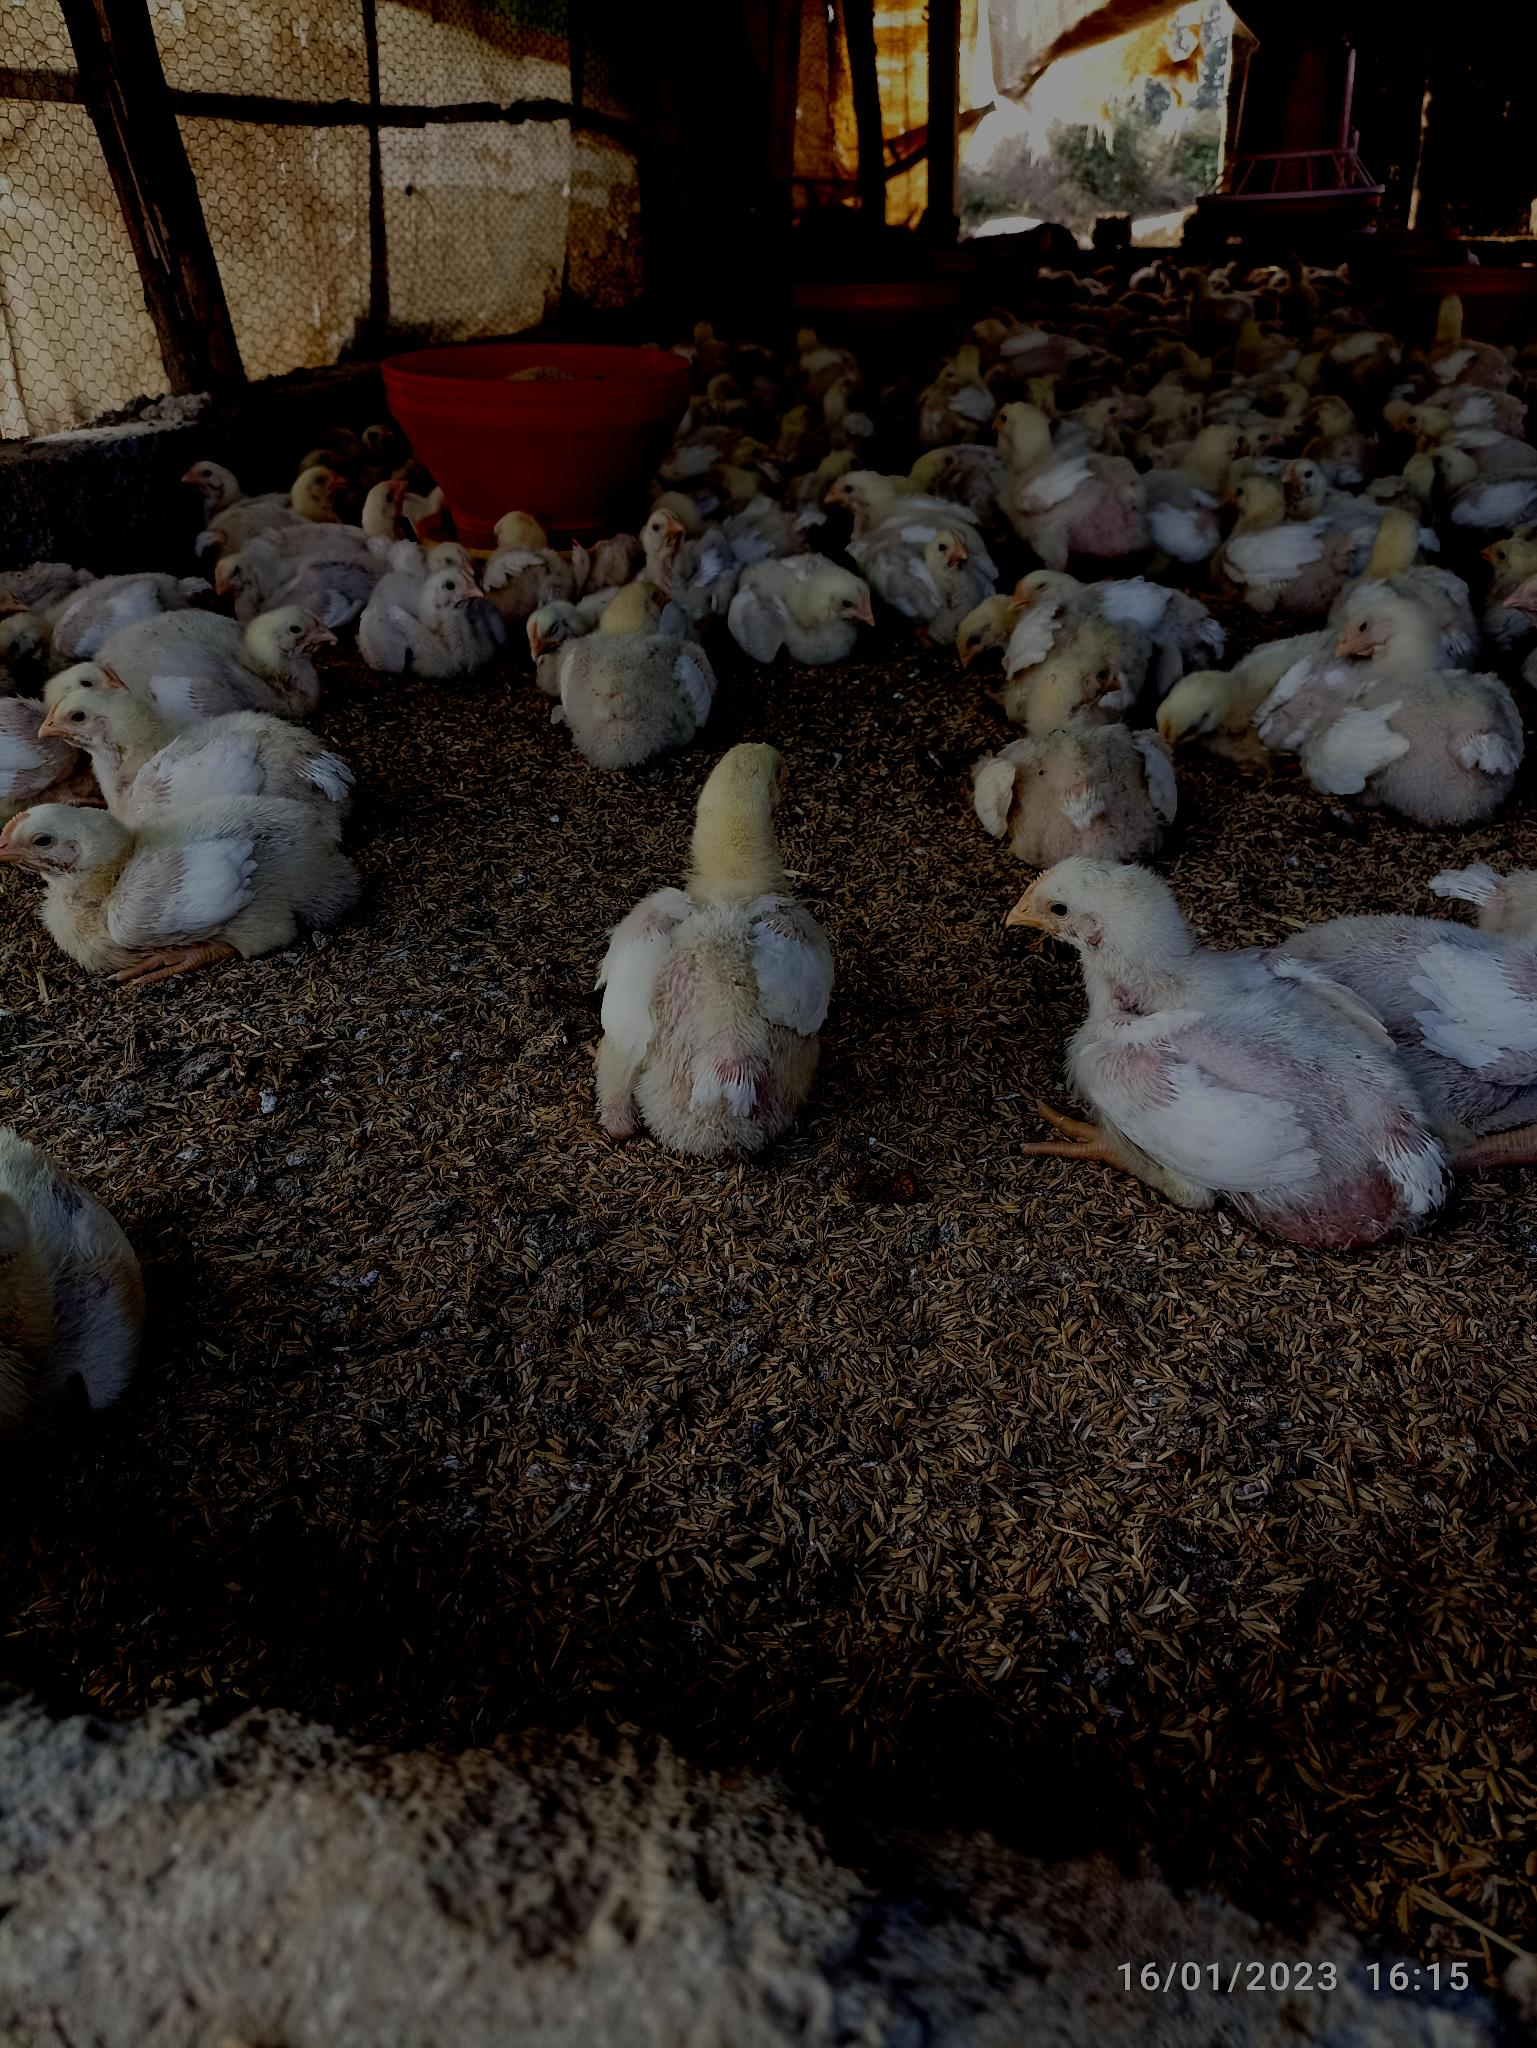Pollos: (1014, 859, 1476, 1259), (596, 747, 849, 1151), (11, 796, 366, 988), (1317, 583, 1537, 813), (39, 660, 363, 807), (977, 399, 1174, 573), (999, 654, 1180, 842), (946, 573, 1209, 689), (562, 579, 725, 726), (1217, 470, 1358, 604), (197, 460, 347, 573), (828, 473, 990, 573), (746, 570, 893, 673), (368, 579, 491, 673)
